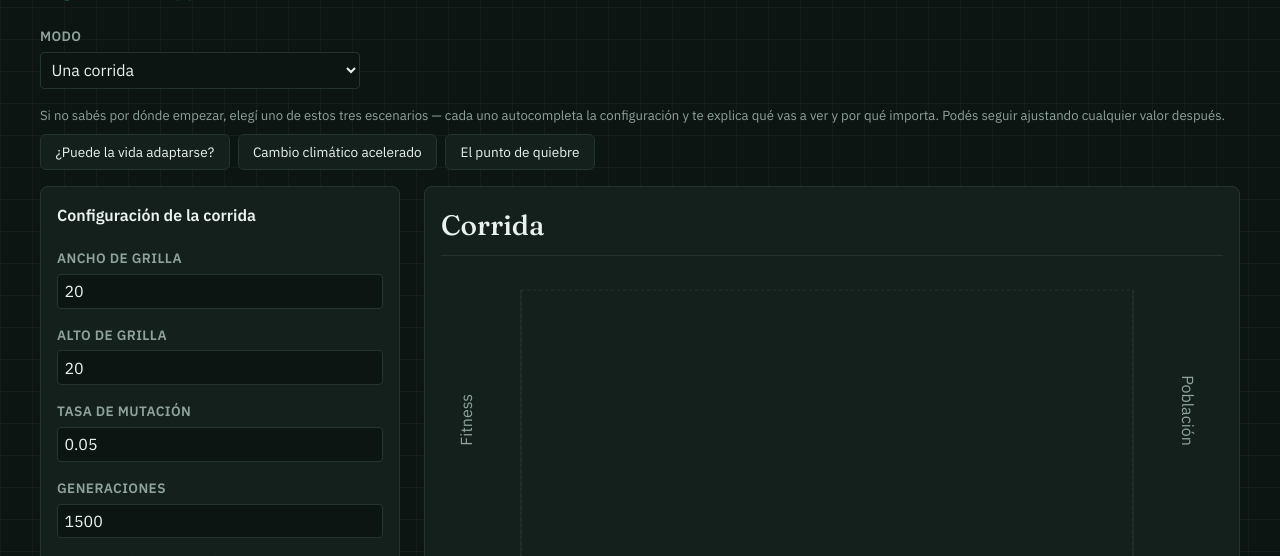
Test case: el aviso junto al botón › al pasarse pasa a error y dice con qué valor se pasó
This screenshot has width=1280, height=556.
Replace the text in the number field labelled "Ancho de grilla" with "40" at (220, 291), box x1=57 y1=274 x2=383 y2=309
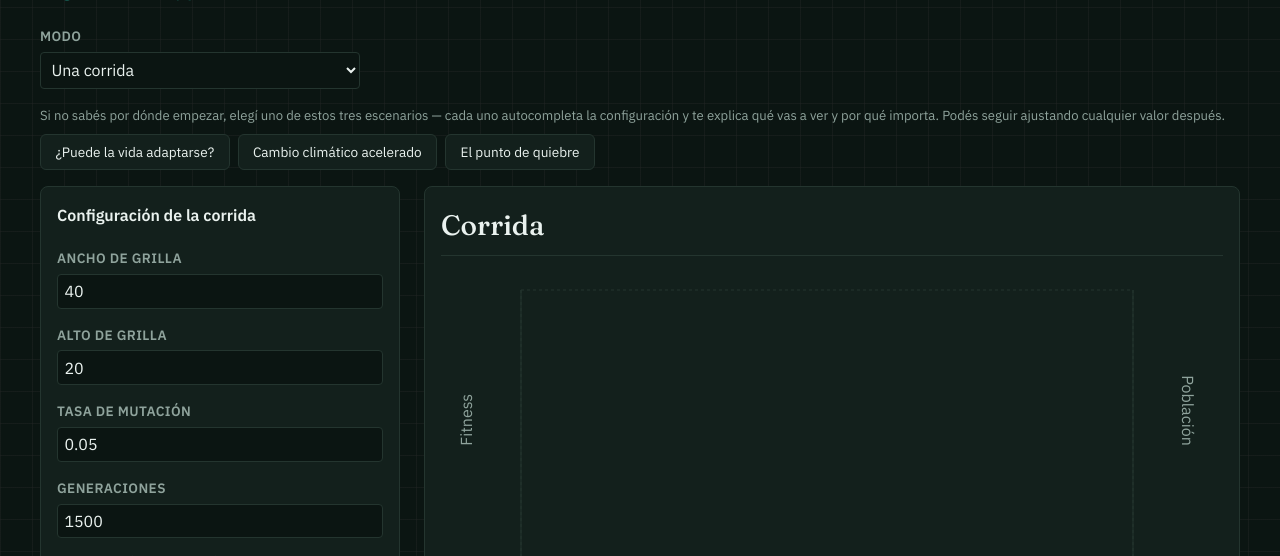
Replace the text in the number field labelled "Alto de grilla" with "40" at (220, 368), box x1=57 y1=350 x2=383 y2=385
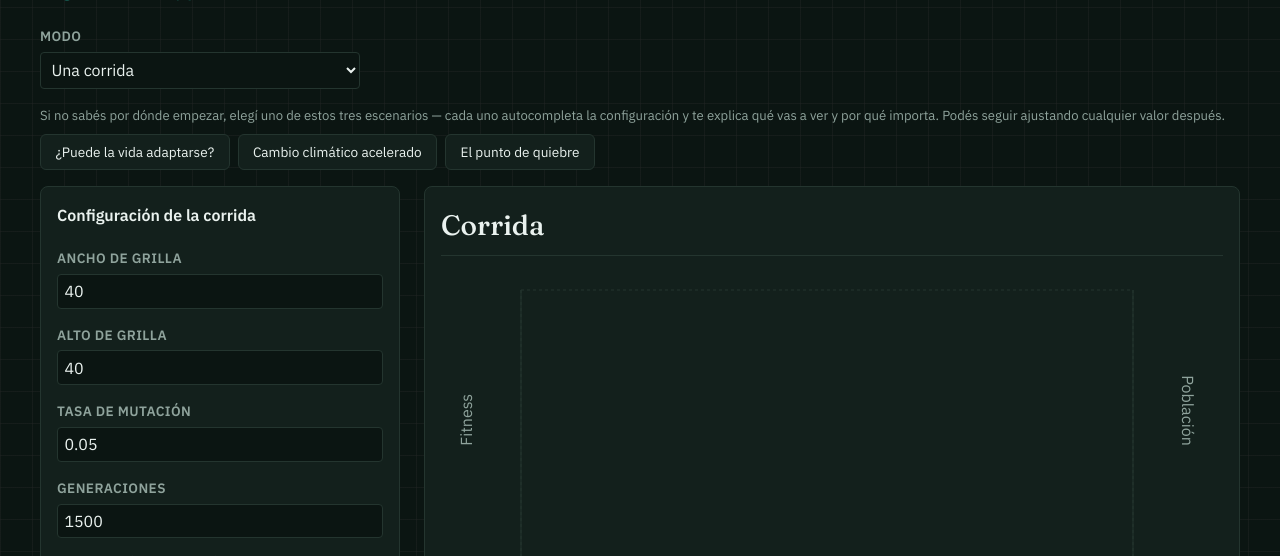
Replace the text in the number field labelled "Generaciones" with "1876" at (220, 521), box x1=57 y1=504 x2=383 y2=538
(page scrolled)
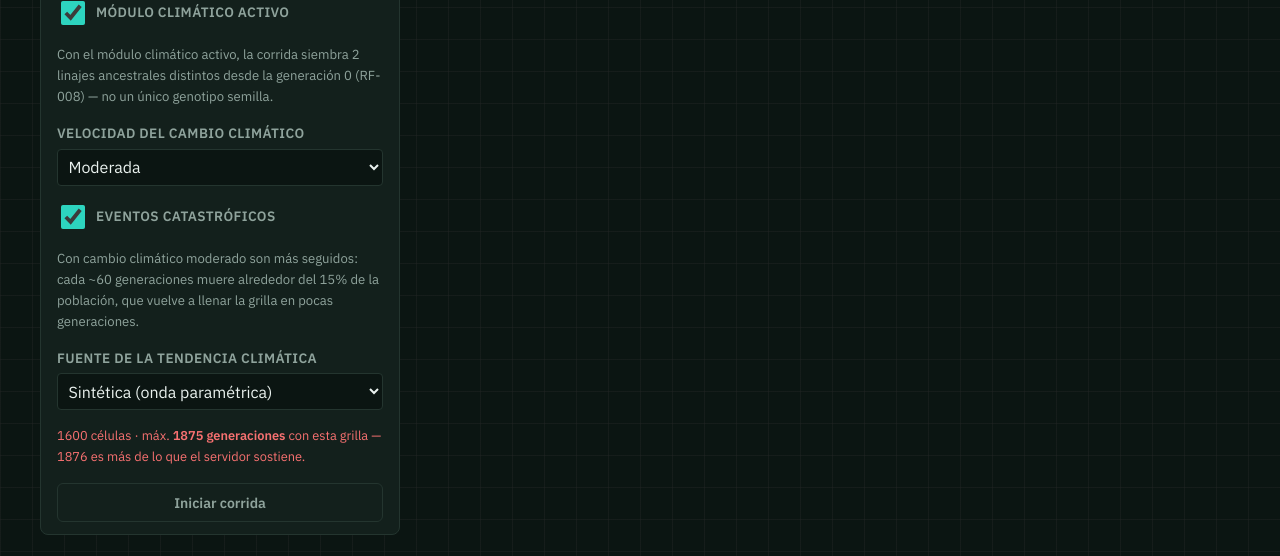
Now the message with class "load-indicator" shows "1876 es más de lo que el servidor sostiene", box x1=57 y1=426 x2=383 y2=467
